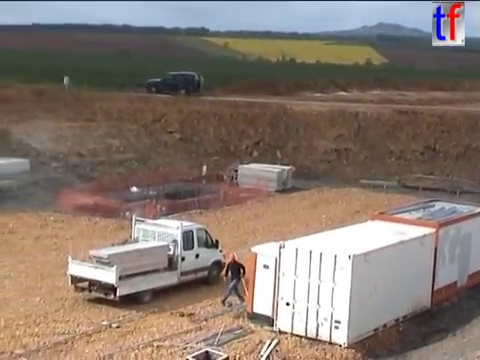truck: (65, 212, 228, 305)
worker: (218, 251, 248, 306)
